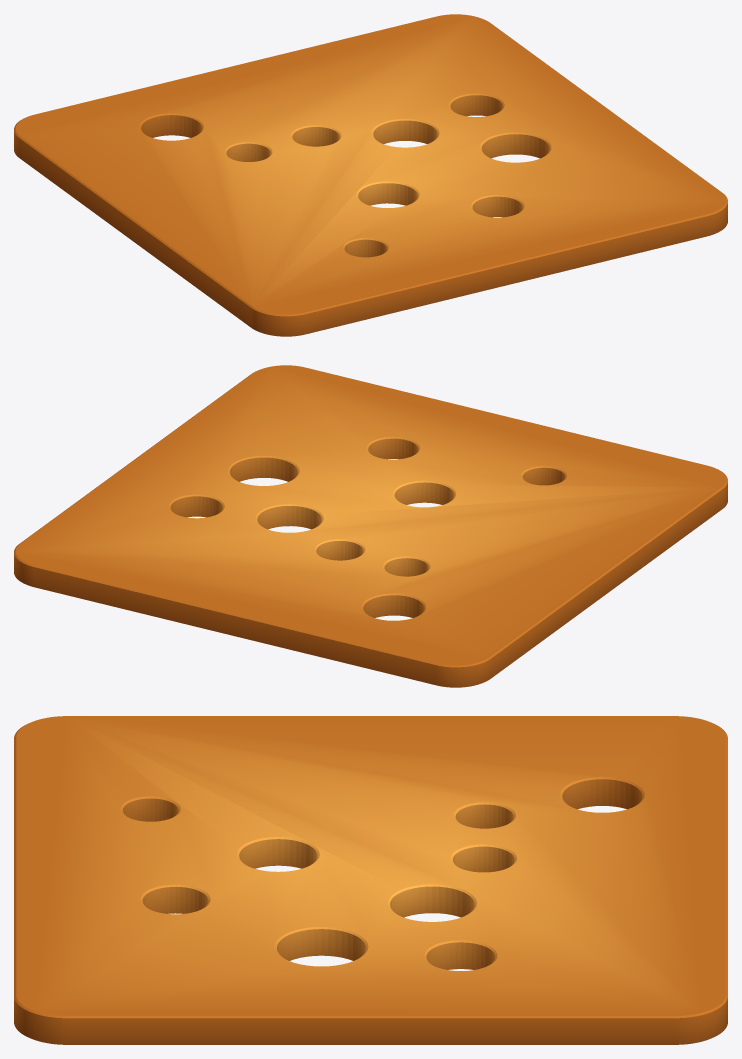
Rendered from grilled_cheese_papercut.glb.
3 renders of one model, top to bottom at view 1: azimuth 30°, elevation 25°; view 2: azimuth 150°, elevation 25°; view 3: azimuth 270°, elevation 25°, orthographic. The views are drawn at different scales.
Visible parts, largest first — view 1: grilled_cheese_slice; view 2: grilled_cheese_slice; view 3: grilled_cheese_slice.
Part boxes in pixels (x1,y1,x2,y2): grilled_cheese_slice: [14, 14, 727, 336]; grilled_cheese_slice: [14, 365, 727, 687]; grilled_cheese_slice: [14, 716, 727, 1044].
Size of the model in its own units: 2 by 0.0892 by 2.
